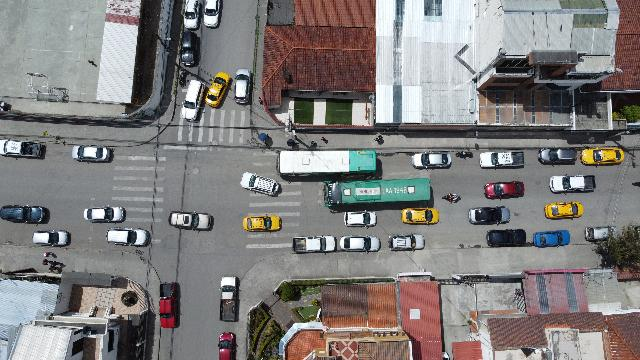Vehiculo: (181, 80, 205, 122), (0, 204, 50, 224), (205, 72, 231, 108), (240, 172, 280, 195), (160, 282, 180, 328), (549, 174, 595, 194), (169, 211, 213, 231), (0, 139, 46, 158), (468, 206, 510, 226), (580, 148, 624, 166), (106, 228, 150, 246), (84, 206, 126, 224), (292, 236, 336, 253), (242, 214, 282, 232), (484, 181, 524, 199), (486, 229, 526, 247), (180, 31, 200, 67), (480, 152, 524, 168), (545, 201, 583, 219), (340, 236, 380, 253), (412, 153, 452, 170), (534, 230, 570, 248), (388, 233, 424, 251), (538, 148, 576, 165), (71, 146, 111, 162), (402, 207, 438, 224), (233, 68, 250, 104), (33, 229, 69, 246), (584, 226, 618, 242), (344, 211, 376, 227), (183, 0, 200, 30), (204, 0, 222, 28), (218, 332, 236, 360), (220, 276, 238, 302)
